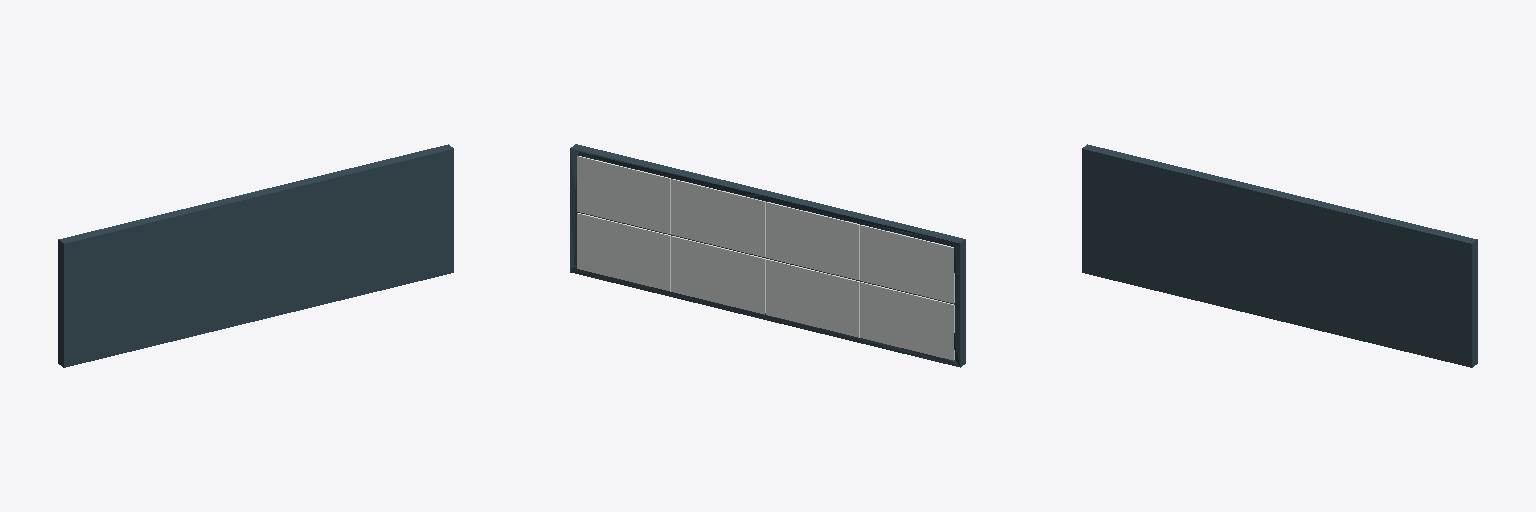
3 views of the same model, side by side, from view 1: azimuth 30°, elevation 25°; view 2: azimuth 150°, elevation 25°; view 3: azimuth 330°, elevation 25° (orthographic).
Parts seen in each view (by area): view 1: group[number redacted]; view 2: group[number redacted], group[number redacted], group[number redacted], group[number redacted], group[number redacted], group[number redacted], group[number redacted], group[number redacted], group[number redacted]; view 3: group[number redacted].
Part boxes in pixels (left/top/right/bottom): group[number redacted]: left=58, top=144, right=453, bottom=367; group[number redacted]: left=570, top=144, right=965, bottom=367; group[number redacted]: left=671, top=236, right=765, bottom=314; group[number redacted]: left=671, top=179, right=765, bottom=256; group[number redacted]: left=860, top=282, right=954, bottom=360; group[number redacted]: left=860, top=225, right=954, bottom=303; group[number redacted]: left=766, top=259, right=859, bottom=337; group[number redacted]: left=577, top=213, right=670, bottom=291; group[number redacted]: left=766, top=202, right=859, bottom=279; group[number redacted]: left=577, top=156, right=670, bottom=233; group[number redacted]: left=1082, top=144, right=1477, bottom=367.
Size of the model in its own units: 5 by 1.52 by 0.14.